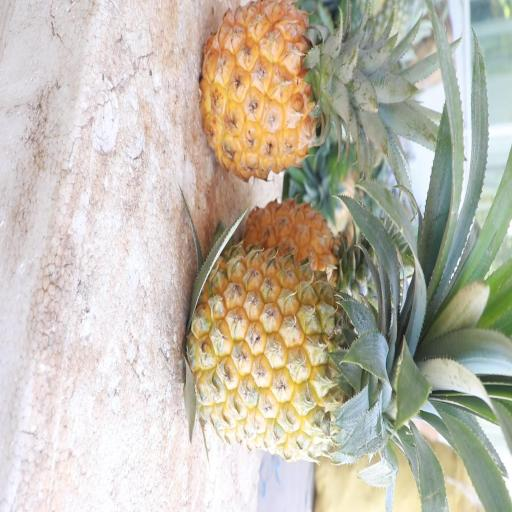Pineapple - v8 v1: (186, 239, 444, 465), (200, 0, 384, 187), (242, 195, 371, 320)
